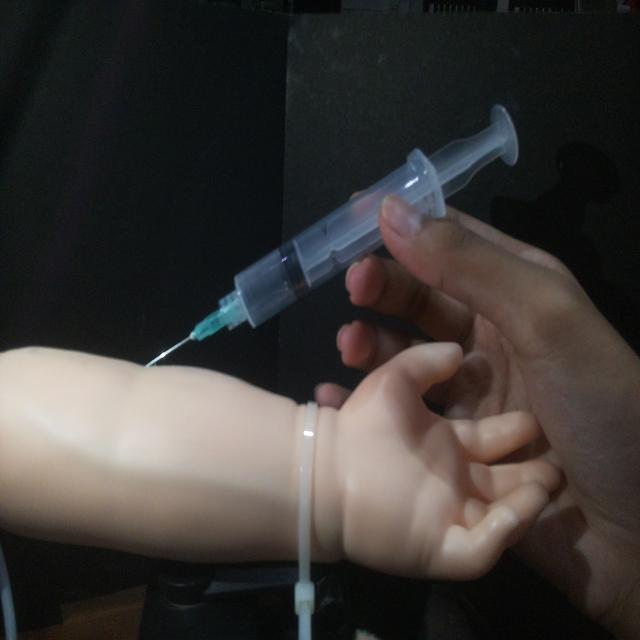27deg: (140, 98, 523, 370)
